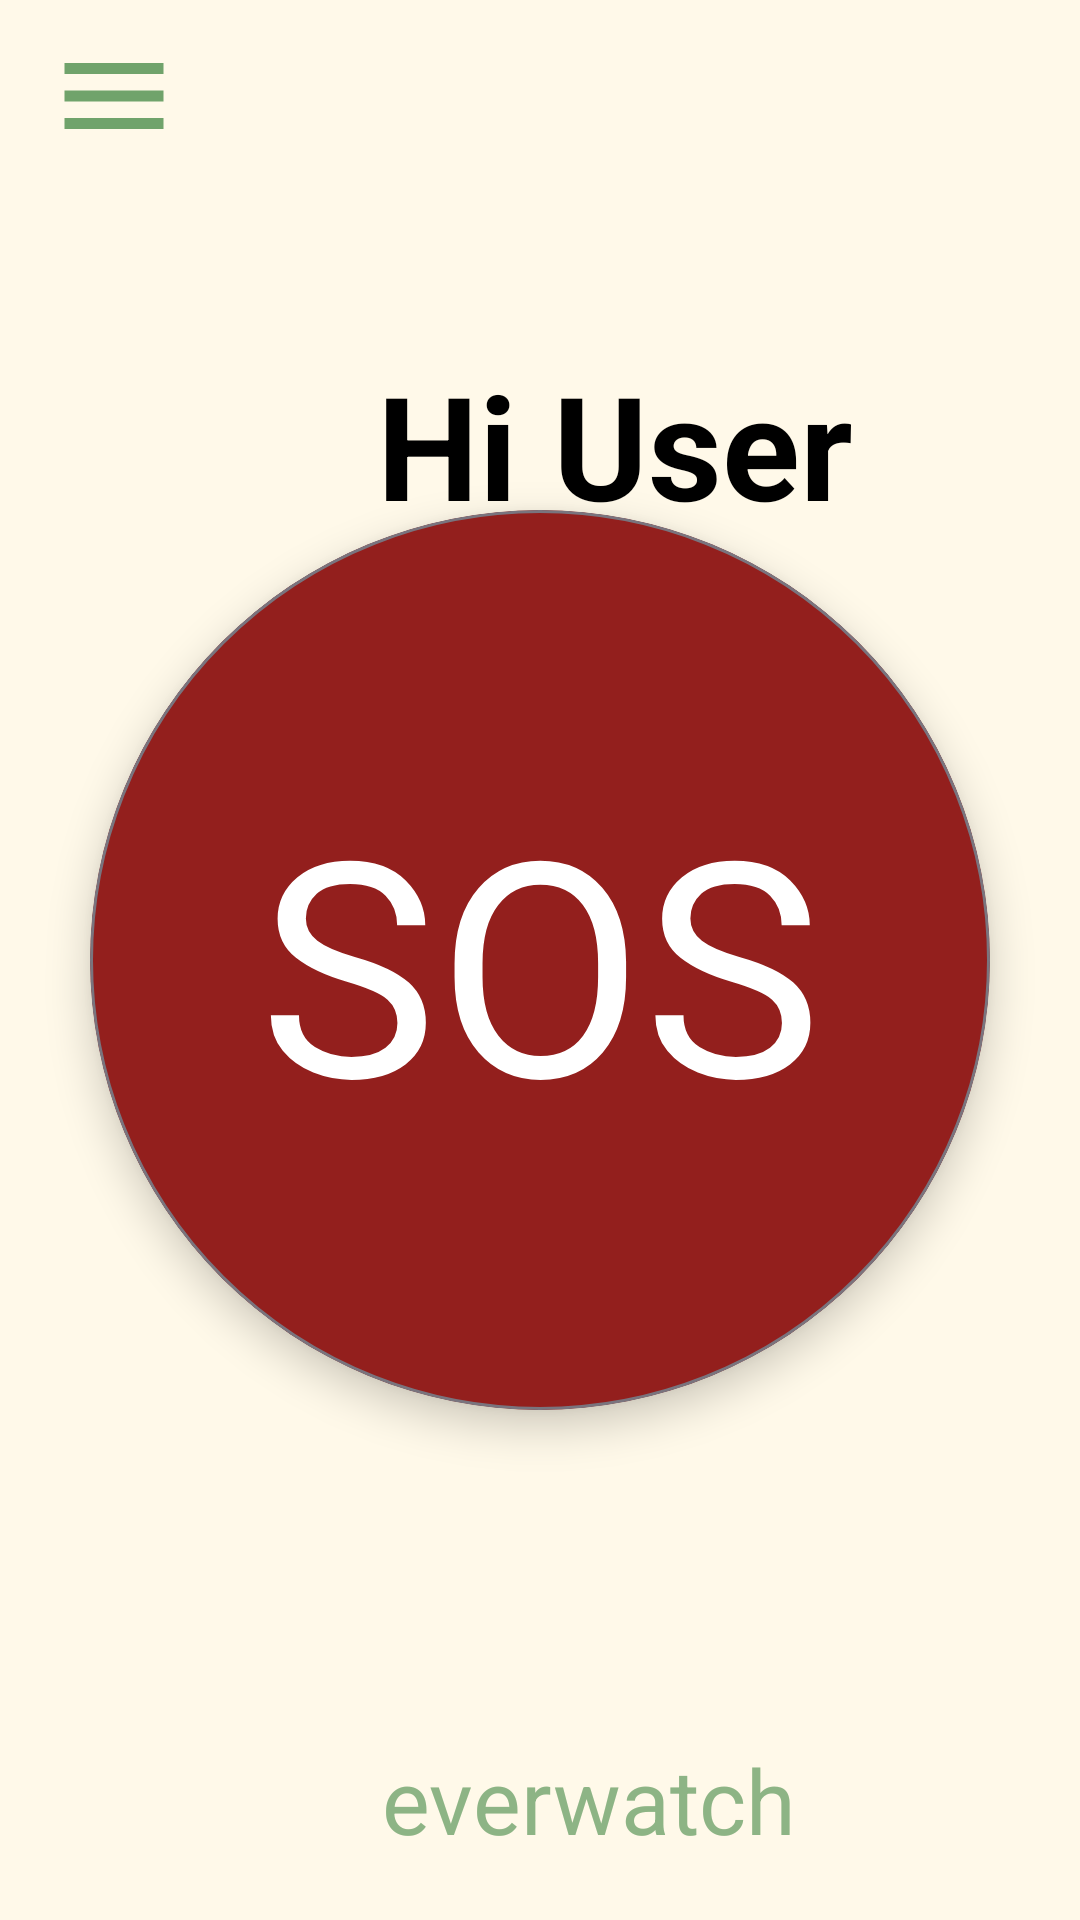

Screen size 1080*1920. Icon name, then its box in pixels as {"x1": x1, "y1": y1, "x2": x2, "y2": y2}:
Menu: {"x1": 64, "y1": 63, "x2": 164, "y2": 129}
